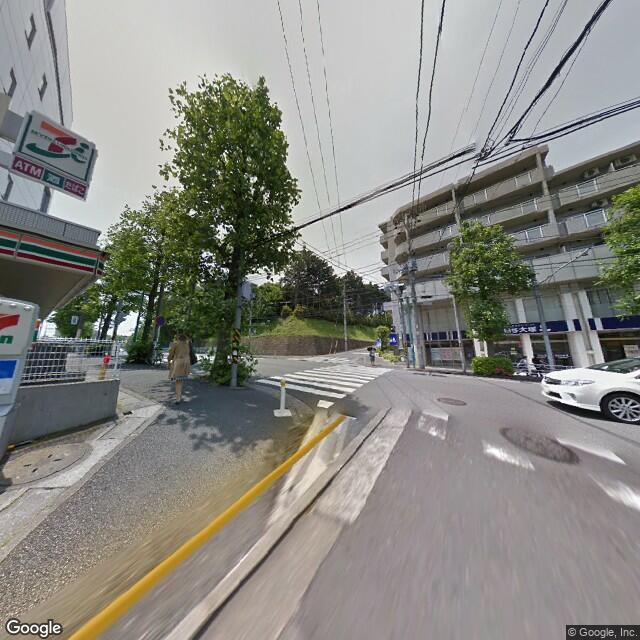7-eleven: (1, 218, 109, 288), (21, 106, 96, 191)
